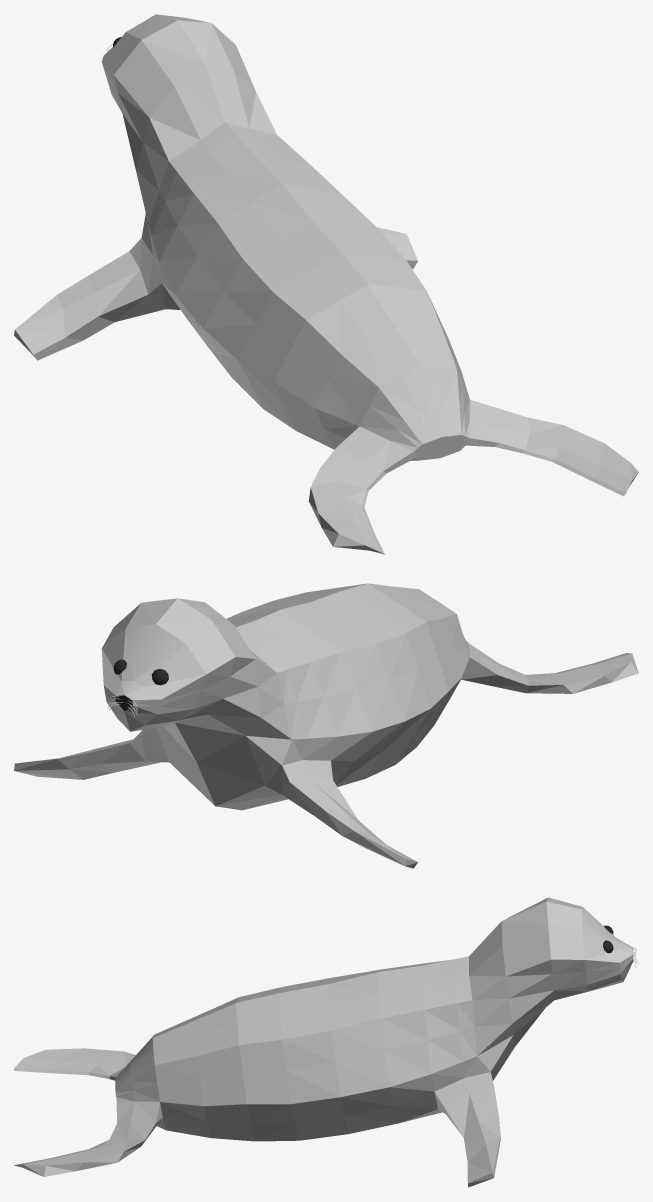
Rendered from seal.glb.
The picture shows the model from 3 angles, top to bottom: view 1: azimuth 30°, elevation 25°; view 2: azimuth 150°, elevation 25°; view 3: azimuth 270°, elevation 25°; orthographic projection. The views are drawn at different scales.
Visible parts, largest first — view 1: Seal_geo; view 2: Seal_geo; view 3: Seal_geo.
Boxes of the visible parts, box(x1,y1,x2,y2) form: Seal_geo: box(14, 14, 638, 554); Seal_geo: box(14, 583, 638, 868); Seal_geo: box(14, 897, 638, 1187).
Bounding box in the file's own units: 0.594 × 0.4055 × 1.01.
1 material, 1 textured.
